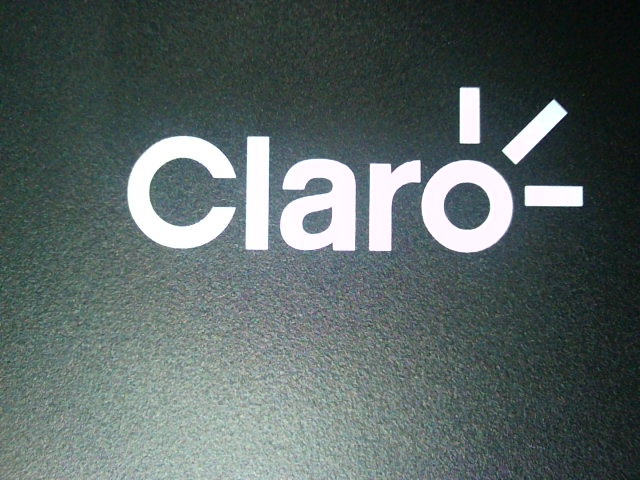BC_Claor: (119, 81, 590, 262)
